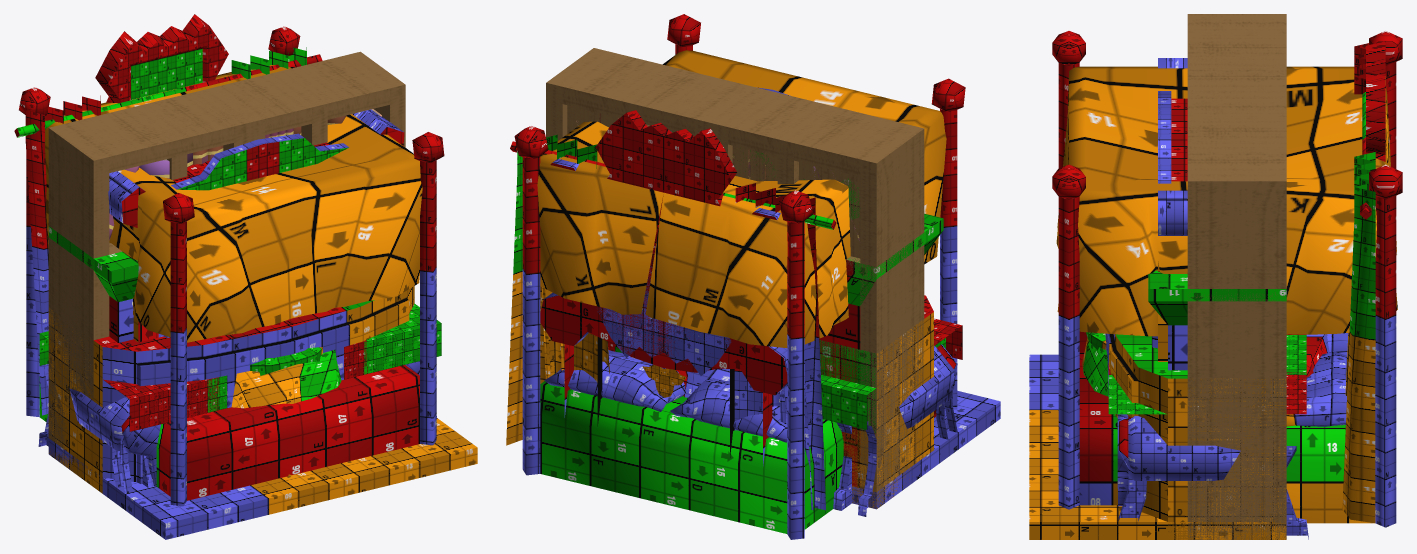
The model's file is doodads.glb.
3 renders of one model, left to right at view 1: azimuth 30°, elevation 25°; view 2: azimuth 150°, elevation 25°; view 3: azimuth 270°, elevation 25°, orthographic. The views are drawn at different scales.
Visible parts, largest first — view 1: bed, bookcaseWide, dresser, fireplace, wardrobe, curtain, paintingSml, tableLongMid, bookcaseNarr, tableLongEnd, bookcaseShor, tableRound (+1 smaller); view 2: bed, bookcaseWide, paintingSml, curtain, dresser, fireplace, paintingBig, bookcaseShor, doorframe, tableLongMid, tableLongEnd, couch (+3 smaller); view 3: bed, bookcaseWide, fireplace, curtain, dresser, couch, wardrobe, tableLongEnd, bookcaseShor, paintingSml, tableRound, bookcaseNarr (+1 smaller).
Boxes of the visible parts, bbox=[...] form: bed: bbox=[19, 26, 444, 506]; bookcaseWide: bbox=[48, 51, 405, 465]; dresser: bbox=[48, 286, 414, 493]; fireplace: bbox=[48, 226, 477, 539]; wardrobe: bbox=[108, 109, 404, 342]; curtain: bbox=[14, 47, 322, 415]; paintingSml: bbox=[95, 14, 228, 103]; tableLongMid: bbox=[38, 304, 441, 493]; bookcaseNarr: bbox=[150, 70, 327, 179]; tableLongEnd: bbox=[129, 303, 441, 488]; bookcaseShor: bbox=[48, 308, 93, 466]; tableRound: bbox=[231, 349, 341, 476]; bed: bbox=[514, 14, 965, 539]; bookcaseWide: bbox=[546, 48, 924, 508]; paintingSml: bbox=[595, 110, 736, 375]; curtain: bbox=[506, 134, 836, 510]; dresser: bbox=[819, 295, 933, 508]; fireplace: bbox=[819, 213, 1000, 509]; paintingBig: bbox=[540, 159, 787, 395]; bookcaseShor: bbox=[819, 319, 924, 508]; doorframe: bbox=[564, 333, 772, 466]; tableLongMid: bbox=[850, 318, 962, 516]; tableLongEnd: bbox=[607, 338, 945, 510]; couch: bbox=[899, 344, 956, 428]; bed: bbox=[1052, 30, 1402, 527]; bookcaseWide: bbox=[1187, 14, 1286, 539]; fireplace: bbox=[1029, 270, 1286, 539]; curtain: bbox=[1342, 43, 1375, 523]; dresser: bbox=[1086, 332, 1286, 539]; couch: bbox=[1117, 414, 1240, 506]; wardrobe: bbox=[1152, 58, 1187, 361]; tableLongEnd: bbox=[1108, 334, 1308, 539]; bookcaseShor: bbox=[1187, 378, 1286, 539]; paintingSml: bbox=[1366, 41, 1385, 161]; tableRound: bbox=[1082, 334, 1329, 396]; bookcaseNarr: bbox=[1187, 55, 1286, 138].
Bounding box in the file's own units: 2.05 × 2.21 × 1.89.
Materials: 2 (2 with a texture image).
